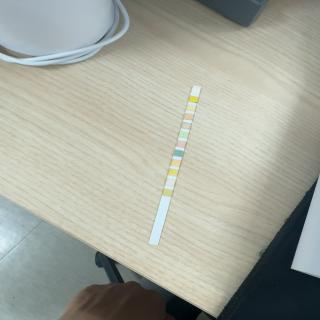mark: (168, 169, 178, 176), (166, 179, 175, 186), (163, 189, 172, 196), (180, 131, 188, 138), (175, 150, 183, 157), (177, 141, 186, 147), (192, 88, 200, 94), (187, 104, 195, 110), (185, 114, 193, 120), (182, 123, 190, 129), (172, 160, 180, 166), (190, 97, 197, 102)
